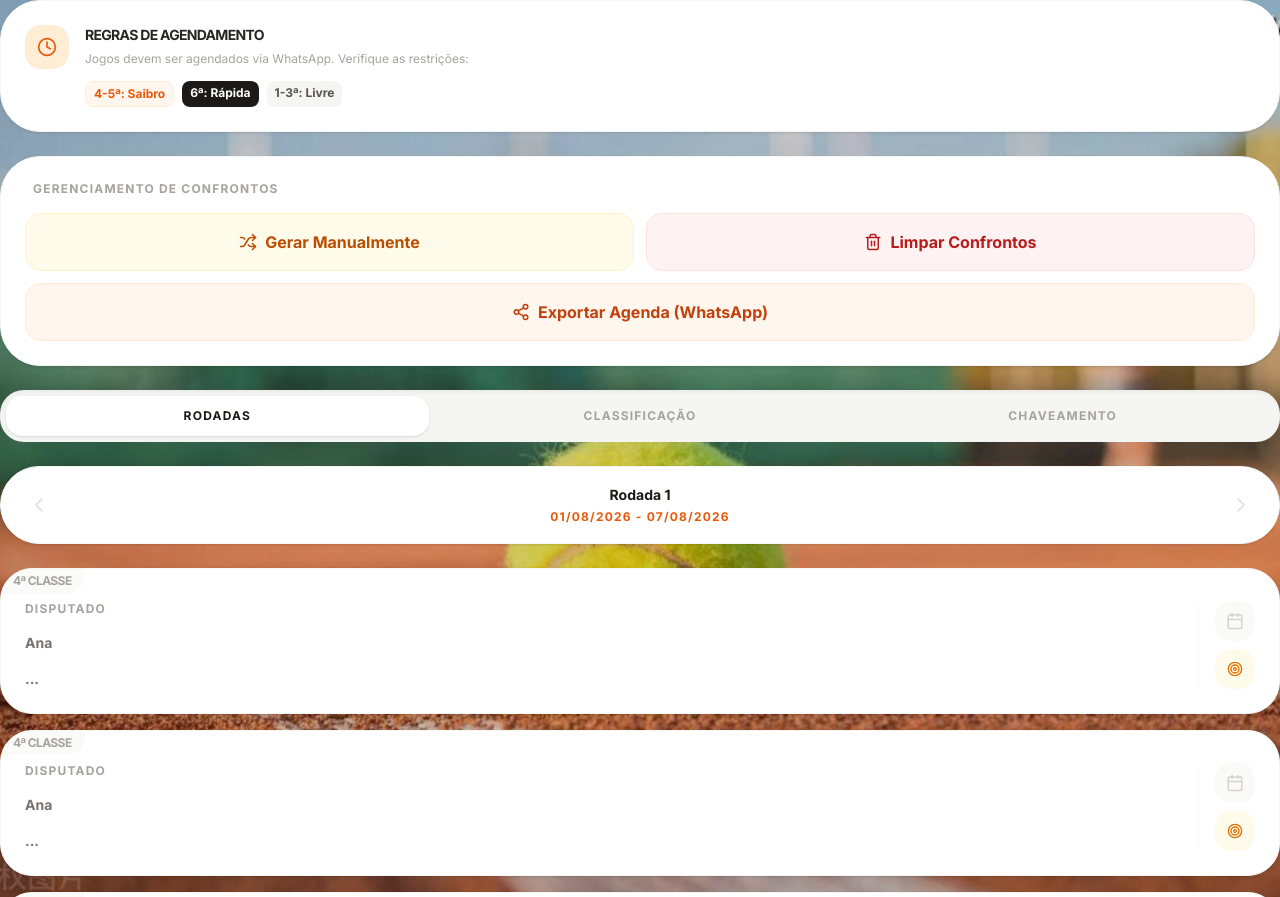
Test: ChampionshipInProgress — gerenciamento de confrontos › mostra o tamanho do estrago antes de apagar, separando o que já foi jogado
The image size is (1280, 897).
Click the button "Limpar Confrontos" at [950, 242], box [646,212,1255,270]
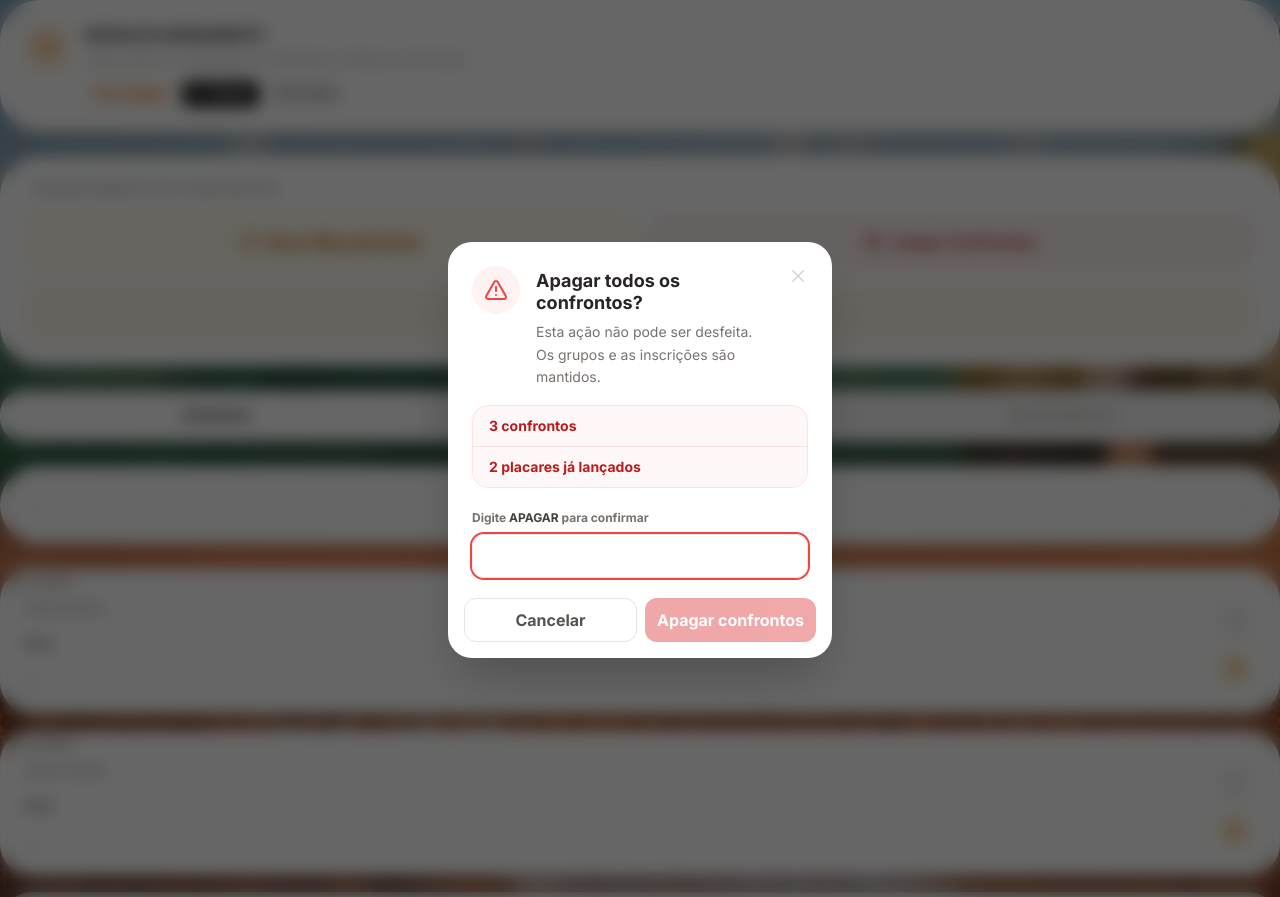
Expected: the list item "3 confrontos" is shown, [473,406,807,447]
Expected: the list item "2 placares já lançados" is shown, [489,458,641,475]
